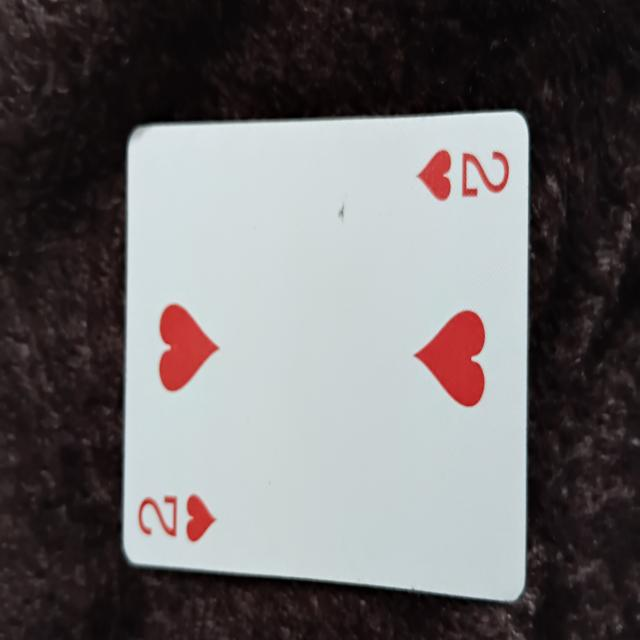2H: (116, 110, 528, 603)
